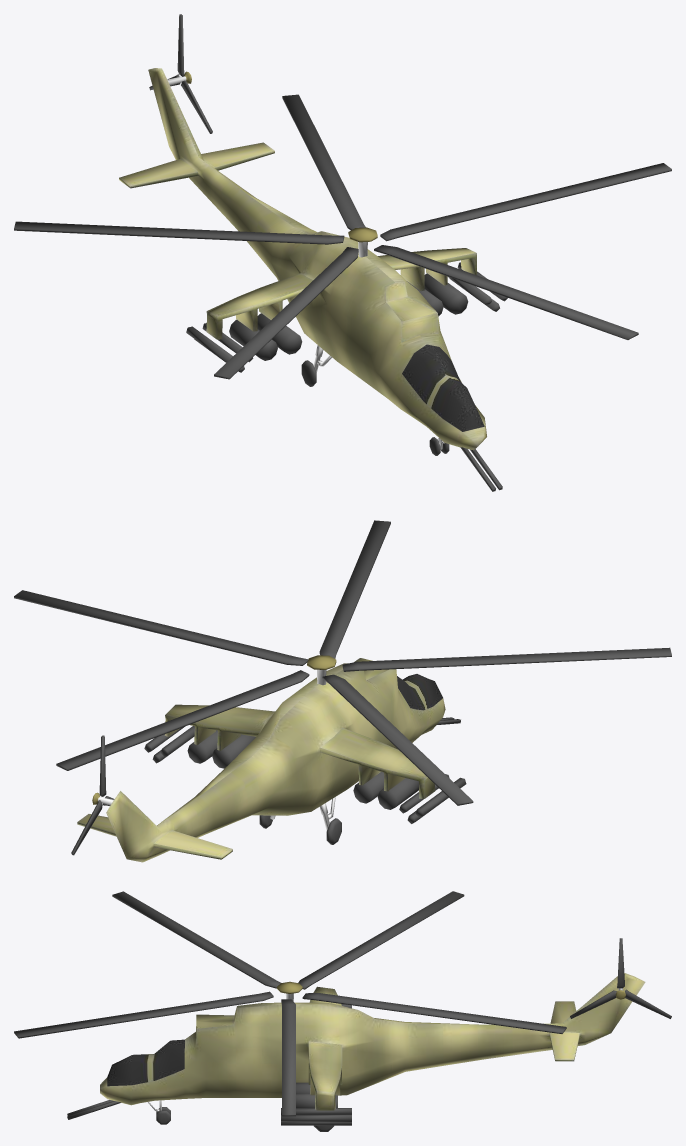
Rendered from Mi24Hind.obj.
3 views of the same model, one above another, from view 1: azimuth 30°, elevation 25°; view 2: azimuth 150°, elevation 25°; view 3: azimuth 270°, elevation 25° (orthographic). The views are drawn at different scales.
Parts seen in each view (by area): view 1: Mi24_GrenadeLauncher2_Mi24_RightRearWing_auv3, Mi24_GrenadeLauncher2_props; view 2: Mi24_GrenadeLauncher2_Mi24_RightRearWing_auv3, Mi24_GrenadeLauncher2_props; view 3: Mi24_GrenadeLauncher2_Mi24_RightRearWing_auv3, Mi24_GrenadeLauncher2_props.
Boxes of the visible parts, x1,y1,x2,y2 form: Mi24_GrenadeLauncher2_Mi24_RightRearWing_auv3: [119, 68, 486, 450]; Mi24_GrenadeLauncher2_props: [14, 14, 671, 491]; Mi24_GrenadeLauncher2_Mi24_RightRearWing_auv3: [77, 658, 445, 862]; Mi24_GrenadeLauncher2_props: [14, 520, 671, 855]; Mi24_GrenadeLauncher2_Mi24_RightRearWing_auv3: [100, 973, 645, 1110]; Mi24_GrenadeLauncher2_props: [14, 891, 671, 1131].
Size of the model in its own units: 0.728 by 0.2903 by 0.9057.
Materials: 5 (1 with a texture image).
